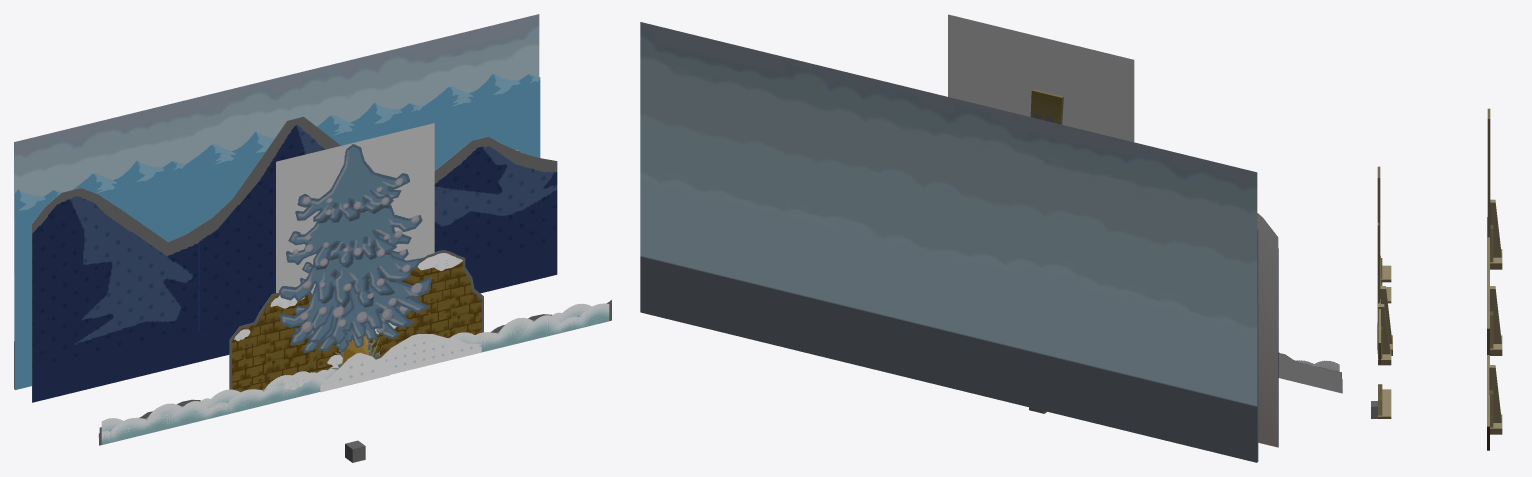
The model's file is stg_07_0.dae.
3 renders of one model, left to right at view 1: azimuth 30°, elevation 25°; view 2: azimuth 150°, elevation 25°; view 3: azimuth 270°, elevation 25°, orthographic. The views are drawn at different scales.
Visible parts, largest first — view 1: polySurface1024_q00085, pPlane451_q00104, polySurface1282_q00105, pCylinder29_q00017, pCylinder29_q00024, polySurface982_q00005, polySurface1277_q00086, polySurface995_q00084, polySurface995_q00077, polySurface1267_q00003, pCylinder29_q00029, polySurface1270_q00019 (+2 smaller); view 2: pPlane451_q00104, pCylinder29_q00024, polySurface1289_q00103, pCylinder29_q00037, polySurface1258_q00076, polySurface1253_q00027; view 3: polySurface1254_q00102, polySurface1253_q00027, pCube24_q00092, pCube24_q00095, pCube24_q00089, pCube24_q00045, polySurface1252_q00100, polySurface1250_q00101, pCube24_q00023, polySurface1251_q00015, pCube22_q00073, pCube22_q00071 (+2 smaller).
Boxes of the visible parts, box(x1,y1,x2,y2) form: polySurface1024_q00085: box(32, 125, 557, 402); pPlane451_q00104: box(14, 14, 539, 389); polySurface1282_q00105: box(15, 73, 540, 389); pCylinder29_q00017: box(279, 144, 431, 345); pCylinder29_q00024: box(276, 123, 434, 294); polySurface982_q00005: box(232, 259, 481, 392); polySurface1277_q00086: box(32, 116, 557, 402); polySurface995_q00084: box(101, 303, 609, 444); polySurface995_q00077: box(101, 303, 609, 444); polySurface1267_q00003: box(376, 334, 481, 374); pCylinder29_q00029: box(294, 249, 416, 352); polySurface1270_q00019: box(320, 352, 389, 392); pPlane451_q00104: box(640, 22, 1257, 462); pCylinder29_q00024: box(948, 14, 1134, 142); polySurface1289_q00103: box(1257, 213, 1278, 447); pCylinder29_q00037: box(967, 76, 1115, 137); polySurface1258_q00076: box(1278, 353, 1341, 393); polySurface1253_q00027: box(1030, 89, 1063, 124); polySurface1254_q00102: box(1487, 108, 1490, 245); polySurface1253_q00027: box(1377, 166, 1380, 353); pCube24_q00092: box(1489, 365, 1501, 422); pCube24_q00095: box(1490, 199, 1501, 257); pCube24_q00089: box(1490, 286, 1501, 343); pCube24_q00045: box(1378, 304, 1390, 354); polySurface1252_q00100: box(1487, 243, 1489, 354); polySurface1250_q00101: box(1487, 217, 1489, 450); pCube24_q00023: box(1380, 286, 1392, 343); polySurface1251_q00015: box(1378, 255, 1380, 363); pCube22_q00073: box(1378, 402, 1391, 418); pCube22_q00071: box(1381, 265, 1391, 282).
Size of the model in its own units: 40 by 23.5 by 10.88.
